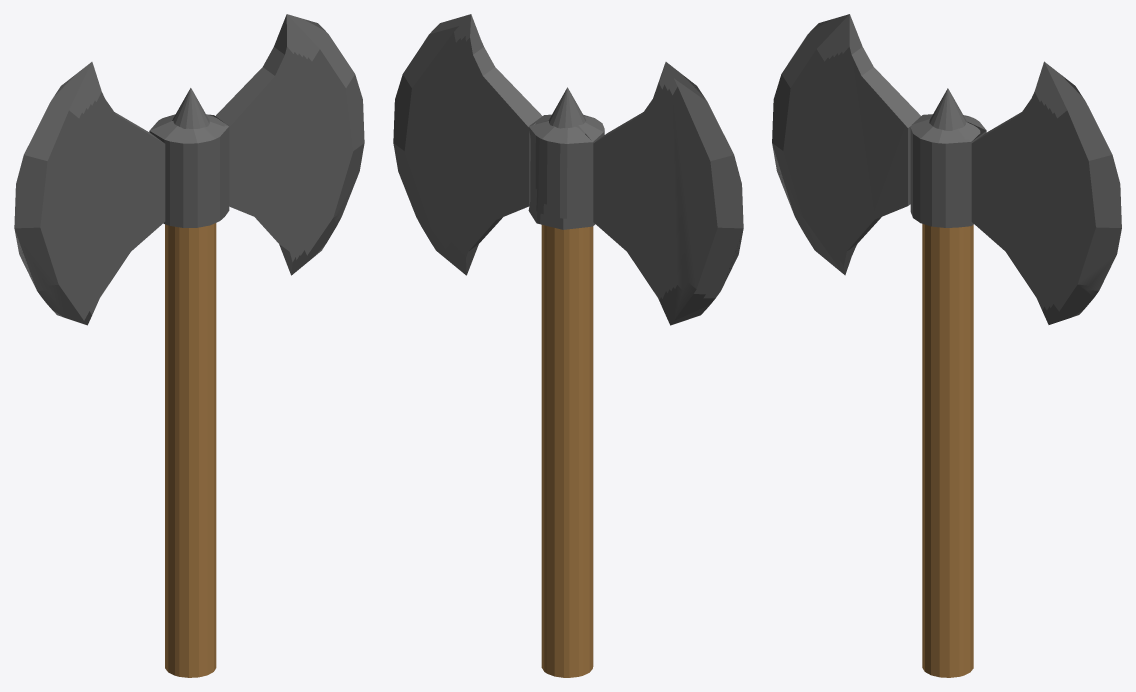
File: hacha2º.fbx
3 views of the same model, side by side, from view 1: azimuth 30°, elevation 25°; view 2: azimuth 150°, elevation 25°; view 3: azimuth 330°, elevation 25° (orthographic).
Parts seen in each view (by area): view 1: Cone; view 2: Cone; view 3: Cone.
Part boxes in pixels (x1=…): Cone: x1=14, y1=14, x2=364, y2=677; Cone: x1=393, y1=14, x2=743, y2=677; Cone: x1=772, y1=14, x2=1121, y2=677.
Size of the model in its own units: 170 by 292 by 30.84.
